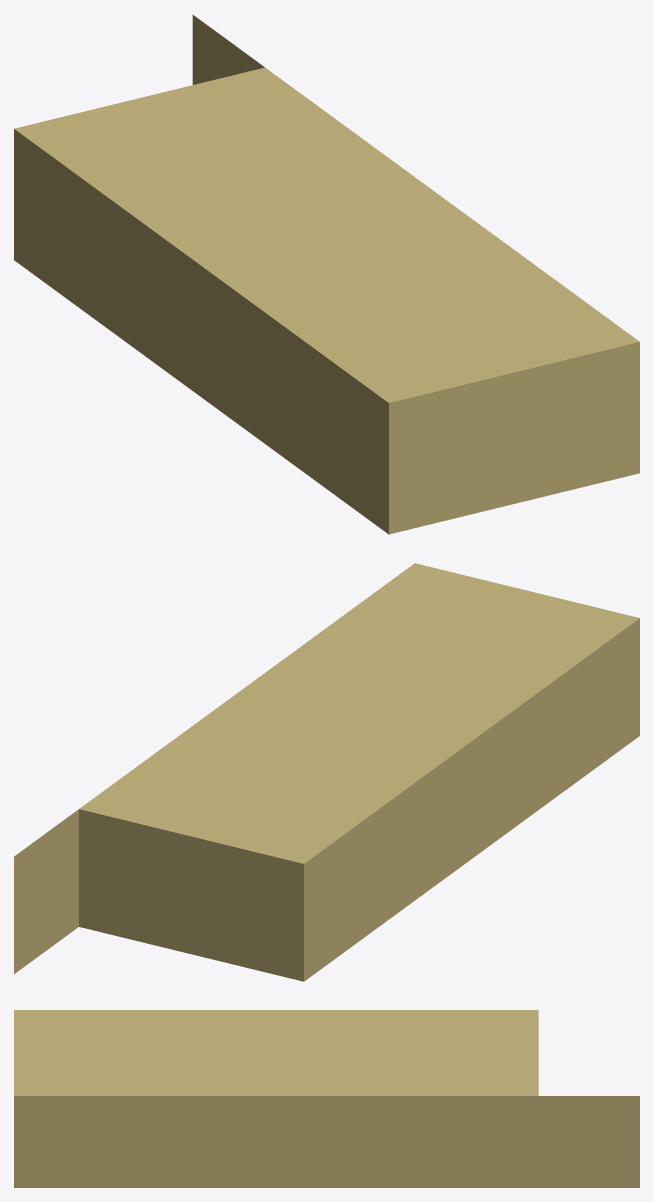
3 views of the same model, one above another, from view 1: azimuth 30°, elevation 25°; view 2: azimuth 150°, elevation 25°; view 3: azimuth 270°, elevation 25° (orthographic). The views are drawn at different scales.
Parts seen in each view (by area): view 1: RUN-021-S00-NOG-03; view 2: RUN-021-S00-NOG-03; view 3: RUN-021-S00-NOG-03.
Boxes of the visible parts, x1,y1,x2,y2 form: RUN-021-S00-NOG-03: [14, 15, 639, 534]; RUN-021-S00-NOG-03: [14, 563, 639, 981]; RUN-021-S00-NOG-03: [14, 1010, 639, 1187].
Size of the model in its own units: 0.09 by 0.045 by 0.2776.
